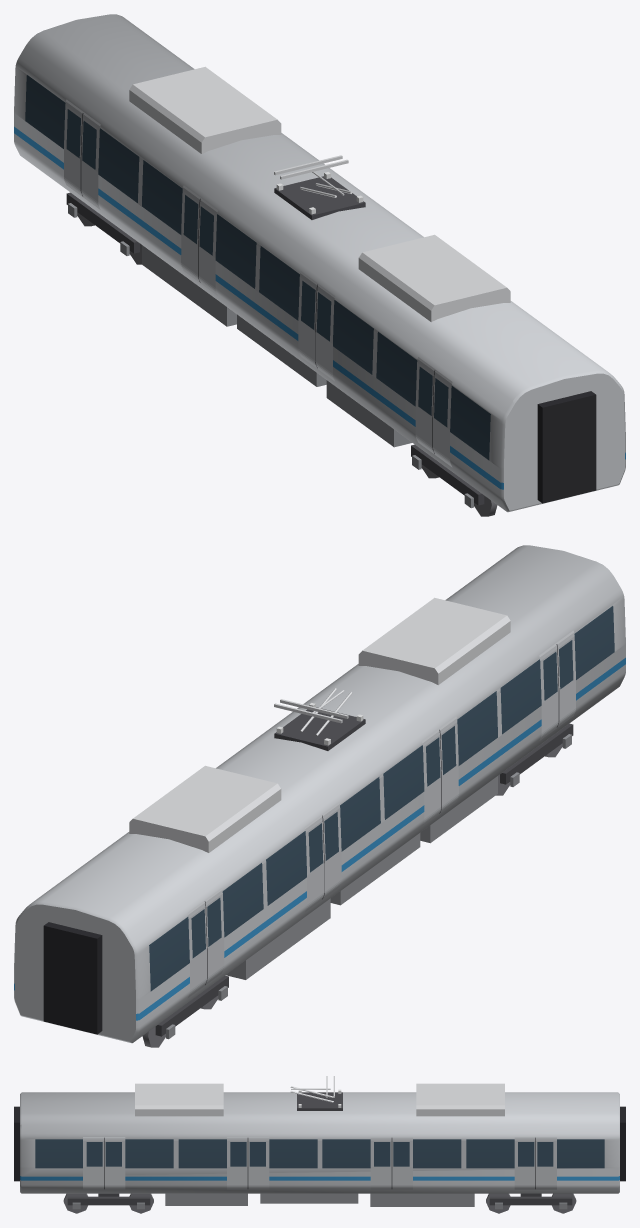
File: middle.fbx
The picture shows the model from 3 angles, top to bottom: view 1: azimuth 30°, elevation 25°; view 2: azimuth 150°, elevation 25°; view 3: azimuth 270°, elevation 25°; orthographic projection. The views are drawn at different scales.
Visible parts, largest first — view 1: 20_middle; view 2: 20_middle; view 3: 20_middle.
Part boxes in pixels (x1,y1,x2,y2): 20_middle: (14, 14, 625, 516); 20_middle: (14, 545, 625, 1047); 20_middle: (14, 1076, 625, 1213).
Bounding box in the file's own units: 2.92 × 4.2 × 20.
